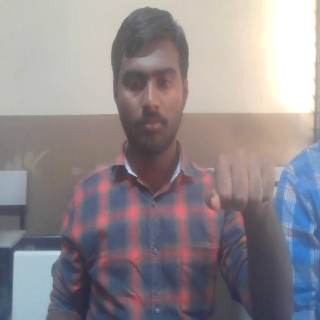Face: (111, 4, 192, 158)
Yes: (203, 147, 282, 230)
